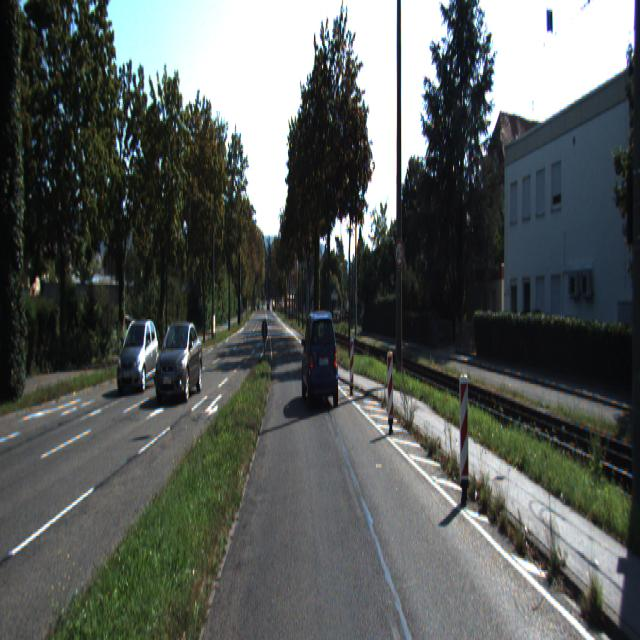Car: (154, 319, 203, 408), (301, 310, 340, 414), (117, 318, 159, 394)
